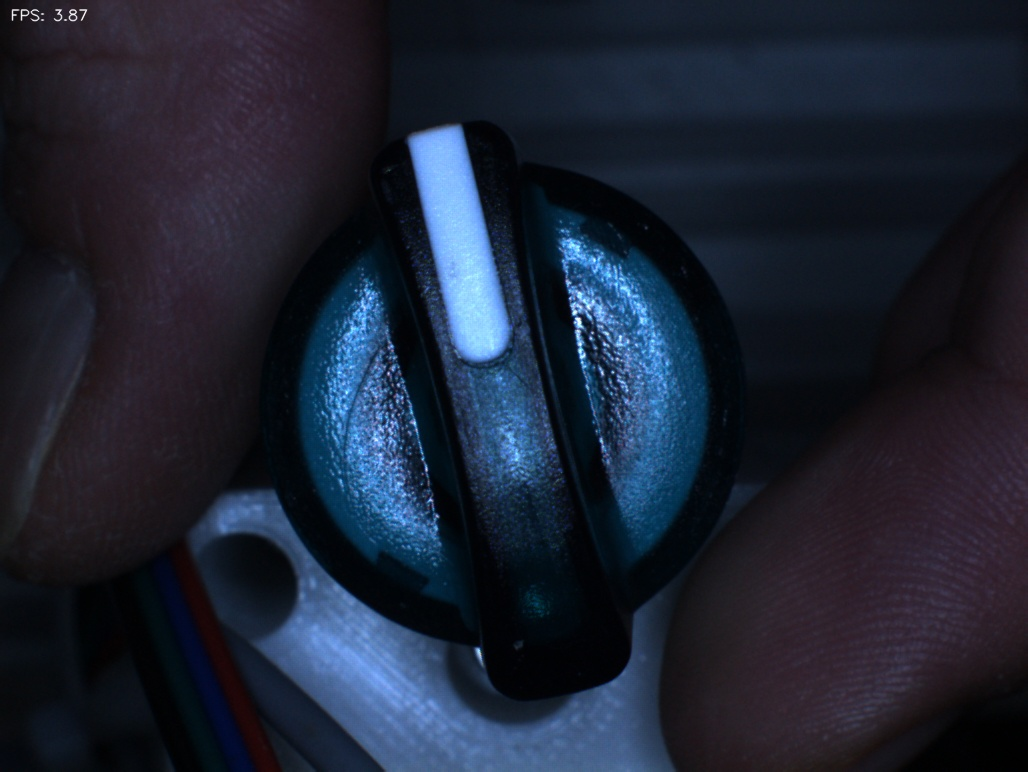PointNoir: (409, 231, 492, 309)
